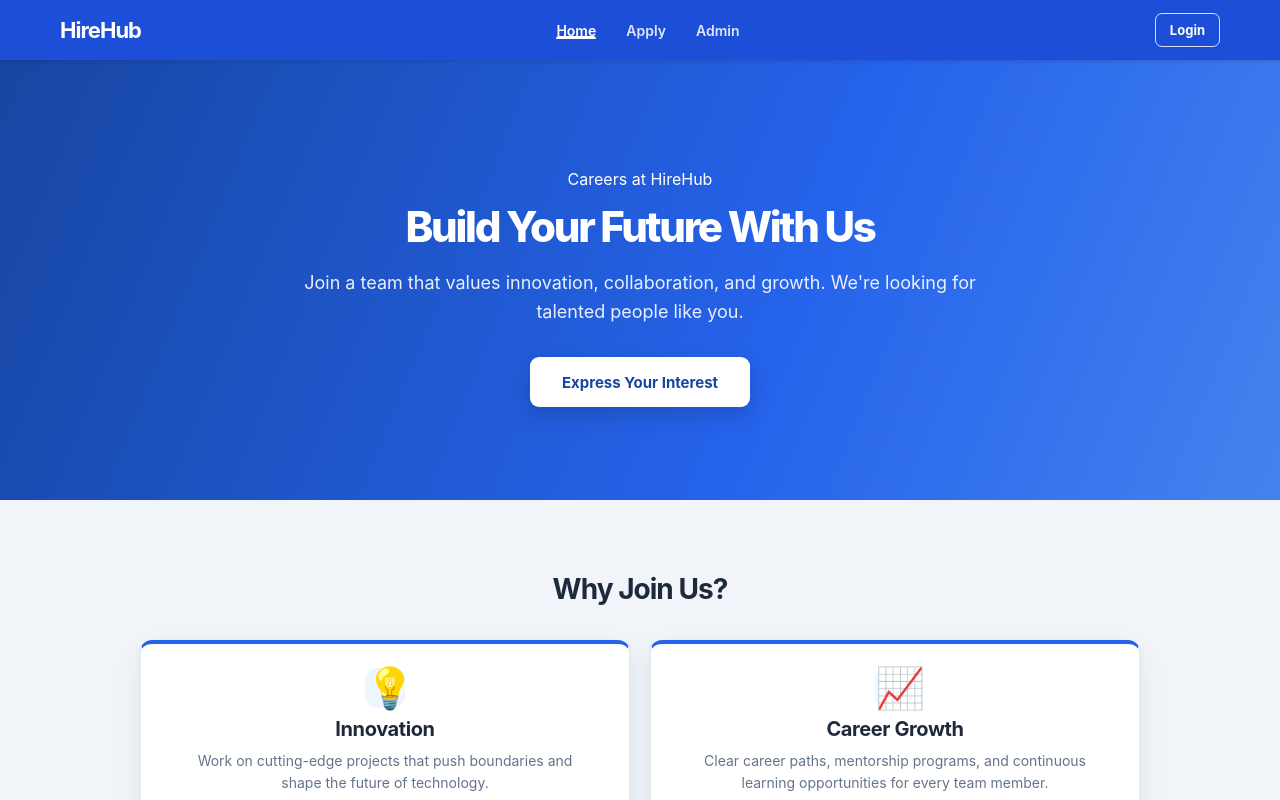
it: HireHub application router and shared session header › keeps the authenticated UI gated if the browser refuses to clear session storage
Click the link "Admin": (718, 30) [696, 22, 739, 38]
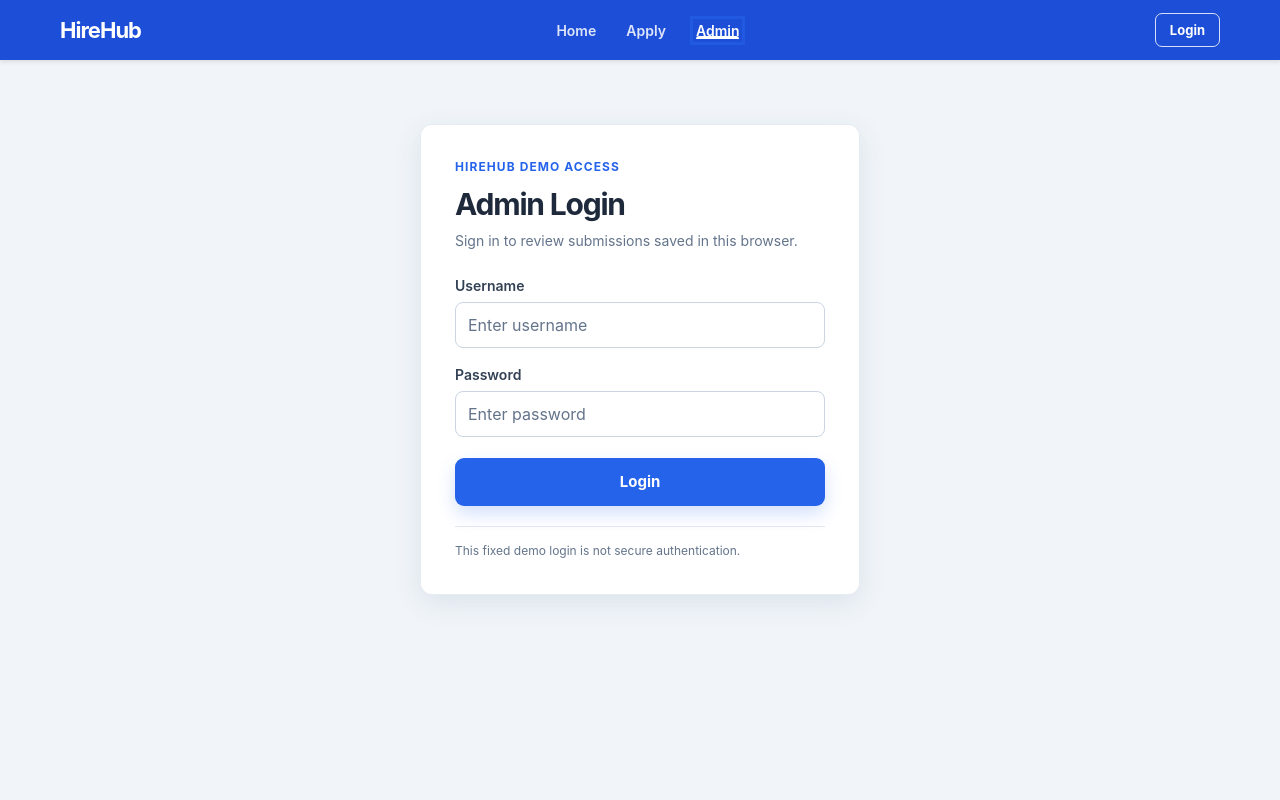
In the field labelled "Username": (640, 325) [455, 302, 825, 348], type "admin"
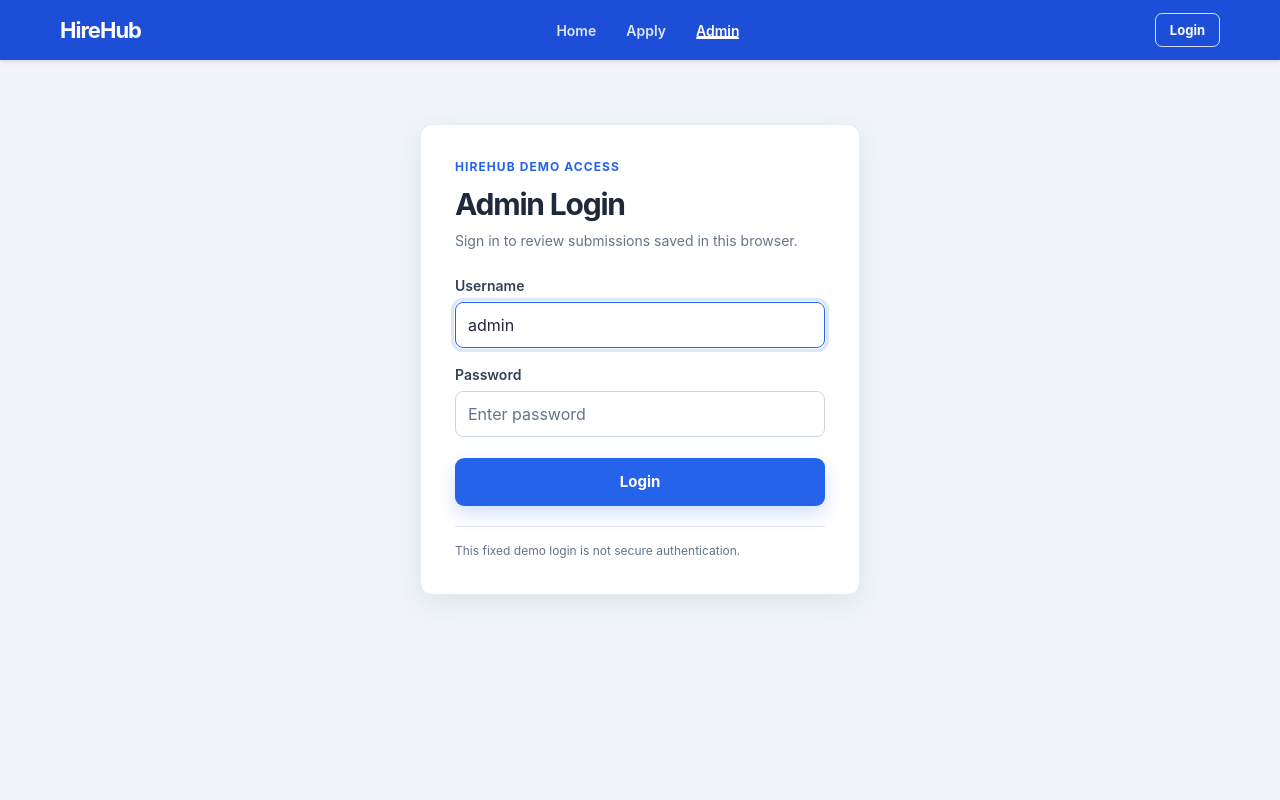
In the password field labelled "Password": (640, 414) [455, 391, 825, 437], type "admin"
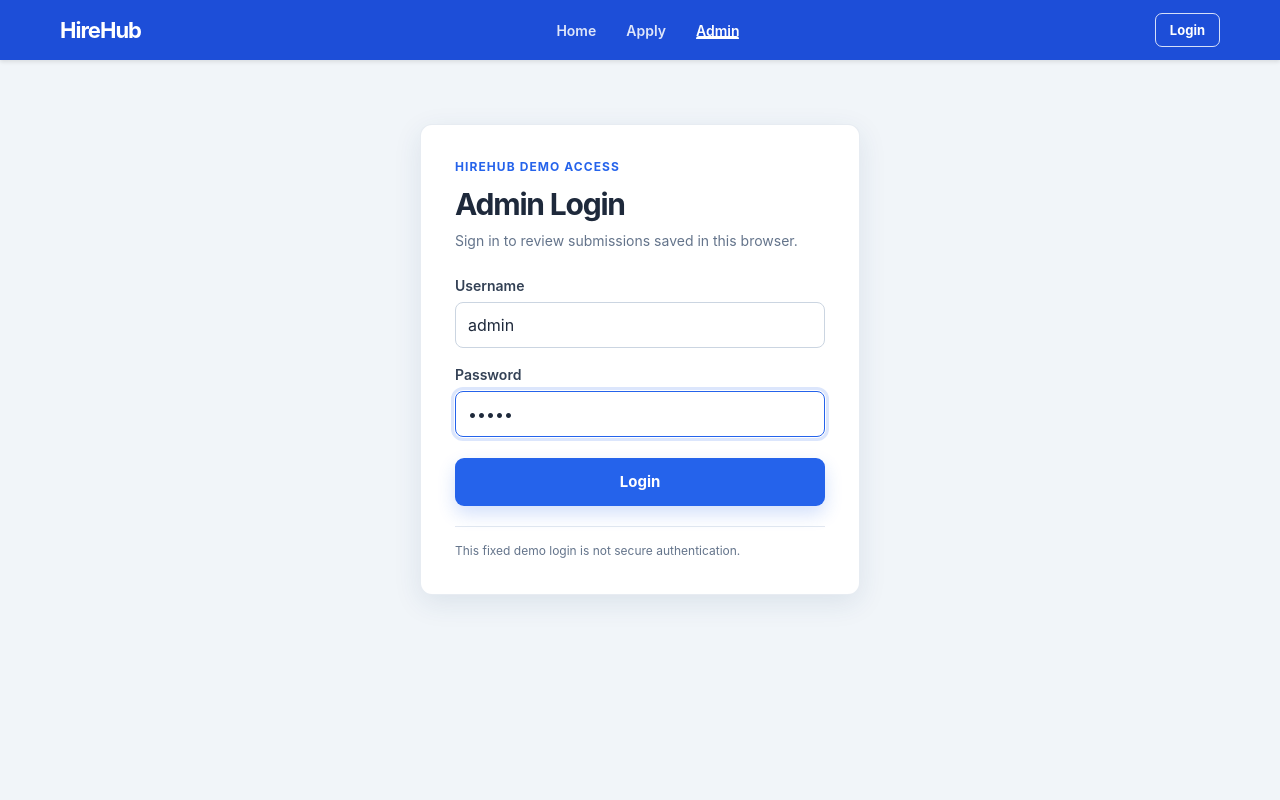
Click the button "Login": (640, 482) [455, 458, 825, 506]
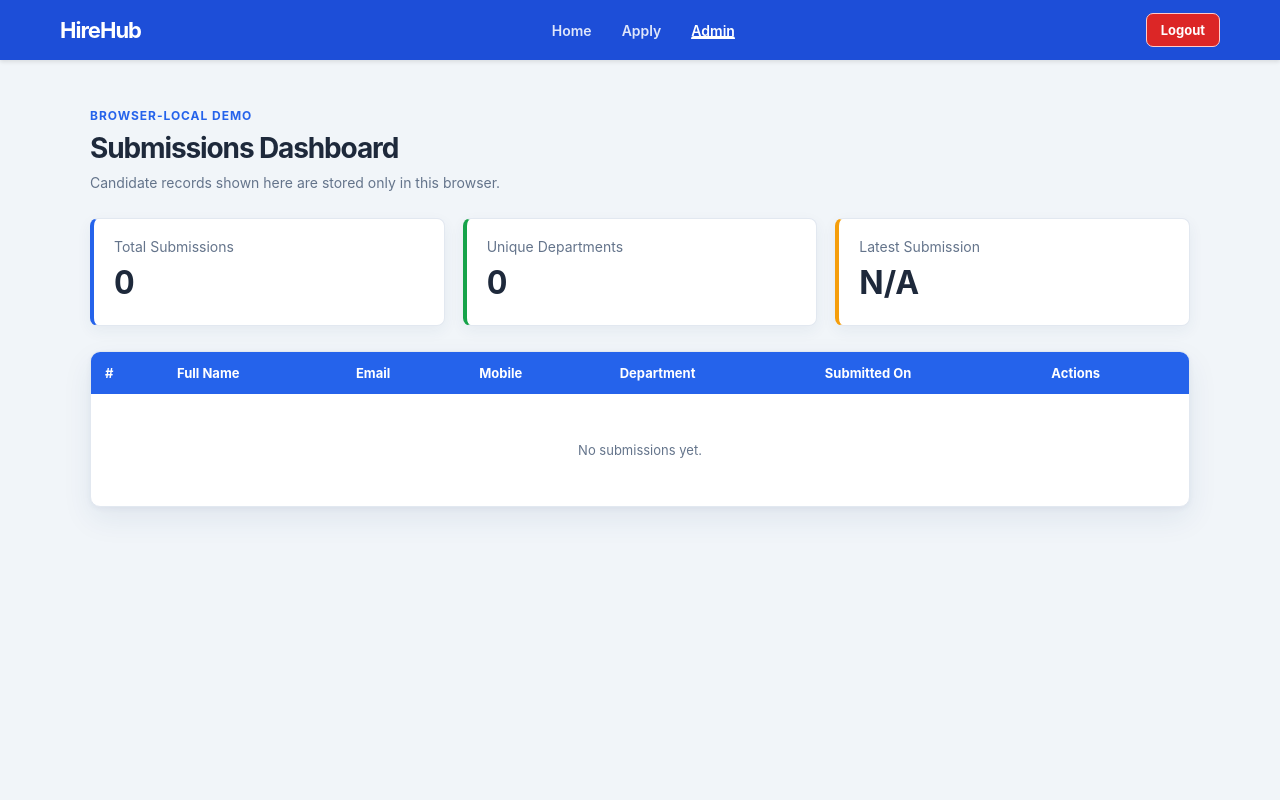
Now the heading "Submissions Dashboard" is shown, box [90, 131, 398, 165]
Click the button "Logout": (1183, 30) [1146, 13, 1220, 47]
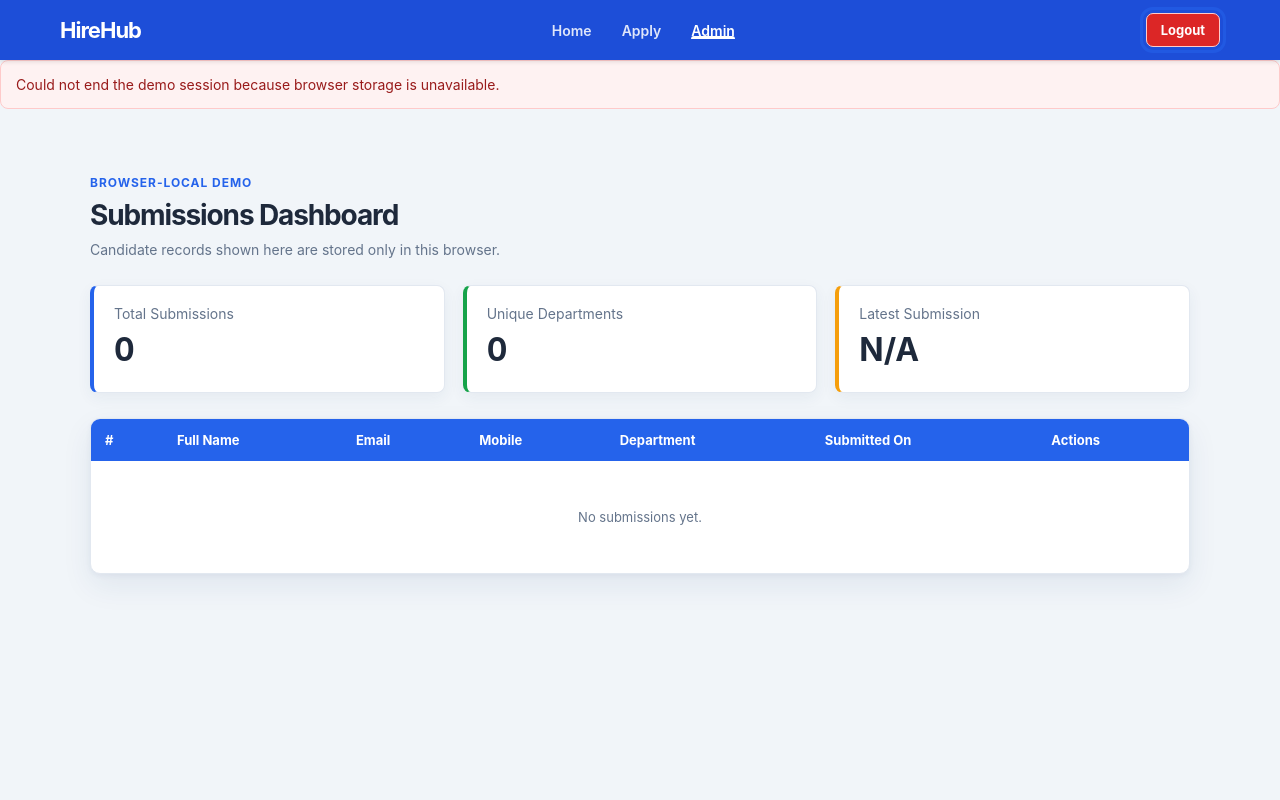
Now the heading "Submissions Dashboard" is shown, box [90, 198, 398, 232]
Now the button "Logout" is shown, box [1146, 13, 1220, 47]
Now the message shows "Could not end the demo session", box [16, 76, 499, 93]
